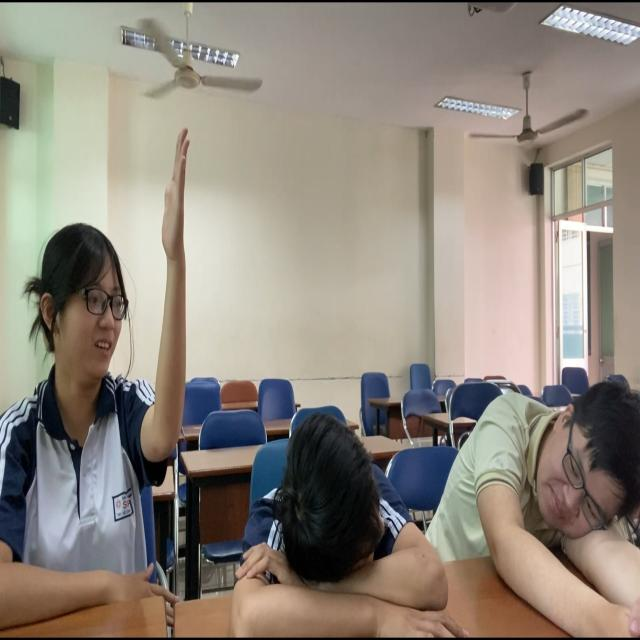raise_hand: (10, 126, 199, 605)
sleep: (230, 410, 446, 640), (439, 361, 640, 594)
